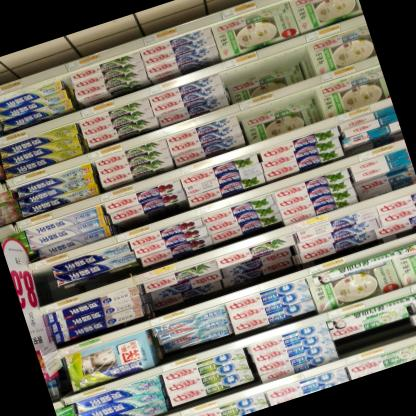empty_space: (34, 266, 64, 306)
